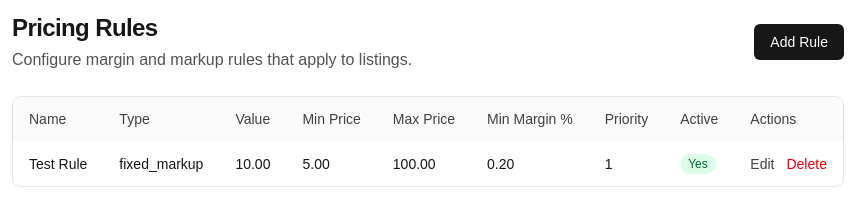
it: PricingPage › toggles active status
Expected: the text "Test Rule" is shown, [13,141,103,186]
Click the button "Yes". click: (698, 164)
box: [680,154,716,174]
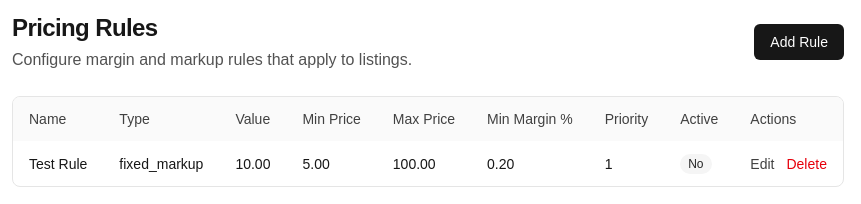
Result: the button "No" is shown at [680,154,712,174]
